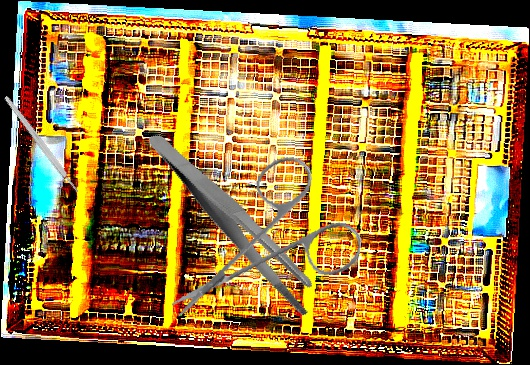Dressing Forceps: (145, 100, 325, 344)
Iris Scissors: (169, 140, 375, 346)
Scalpel Handle: (2, 94, 81, 195)
